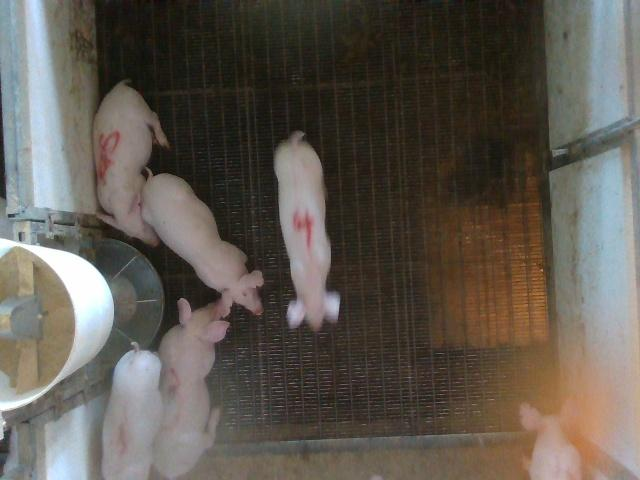pig-1: (101, 345, 162, 479)
pig-3: (152, 300, 229, 478)
pig-4: (274, 131, 340, 331)
pig-5: (94, 80, 169, 246)
